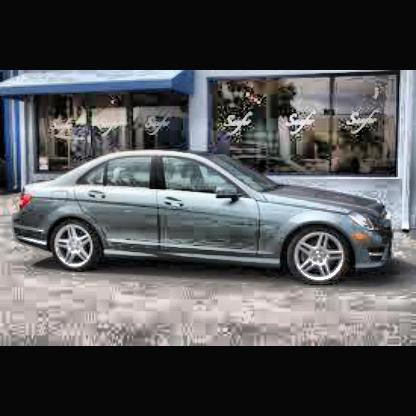Mercedes-Benz C-Class Sedan 2012: (10, 116, 409, 315)
